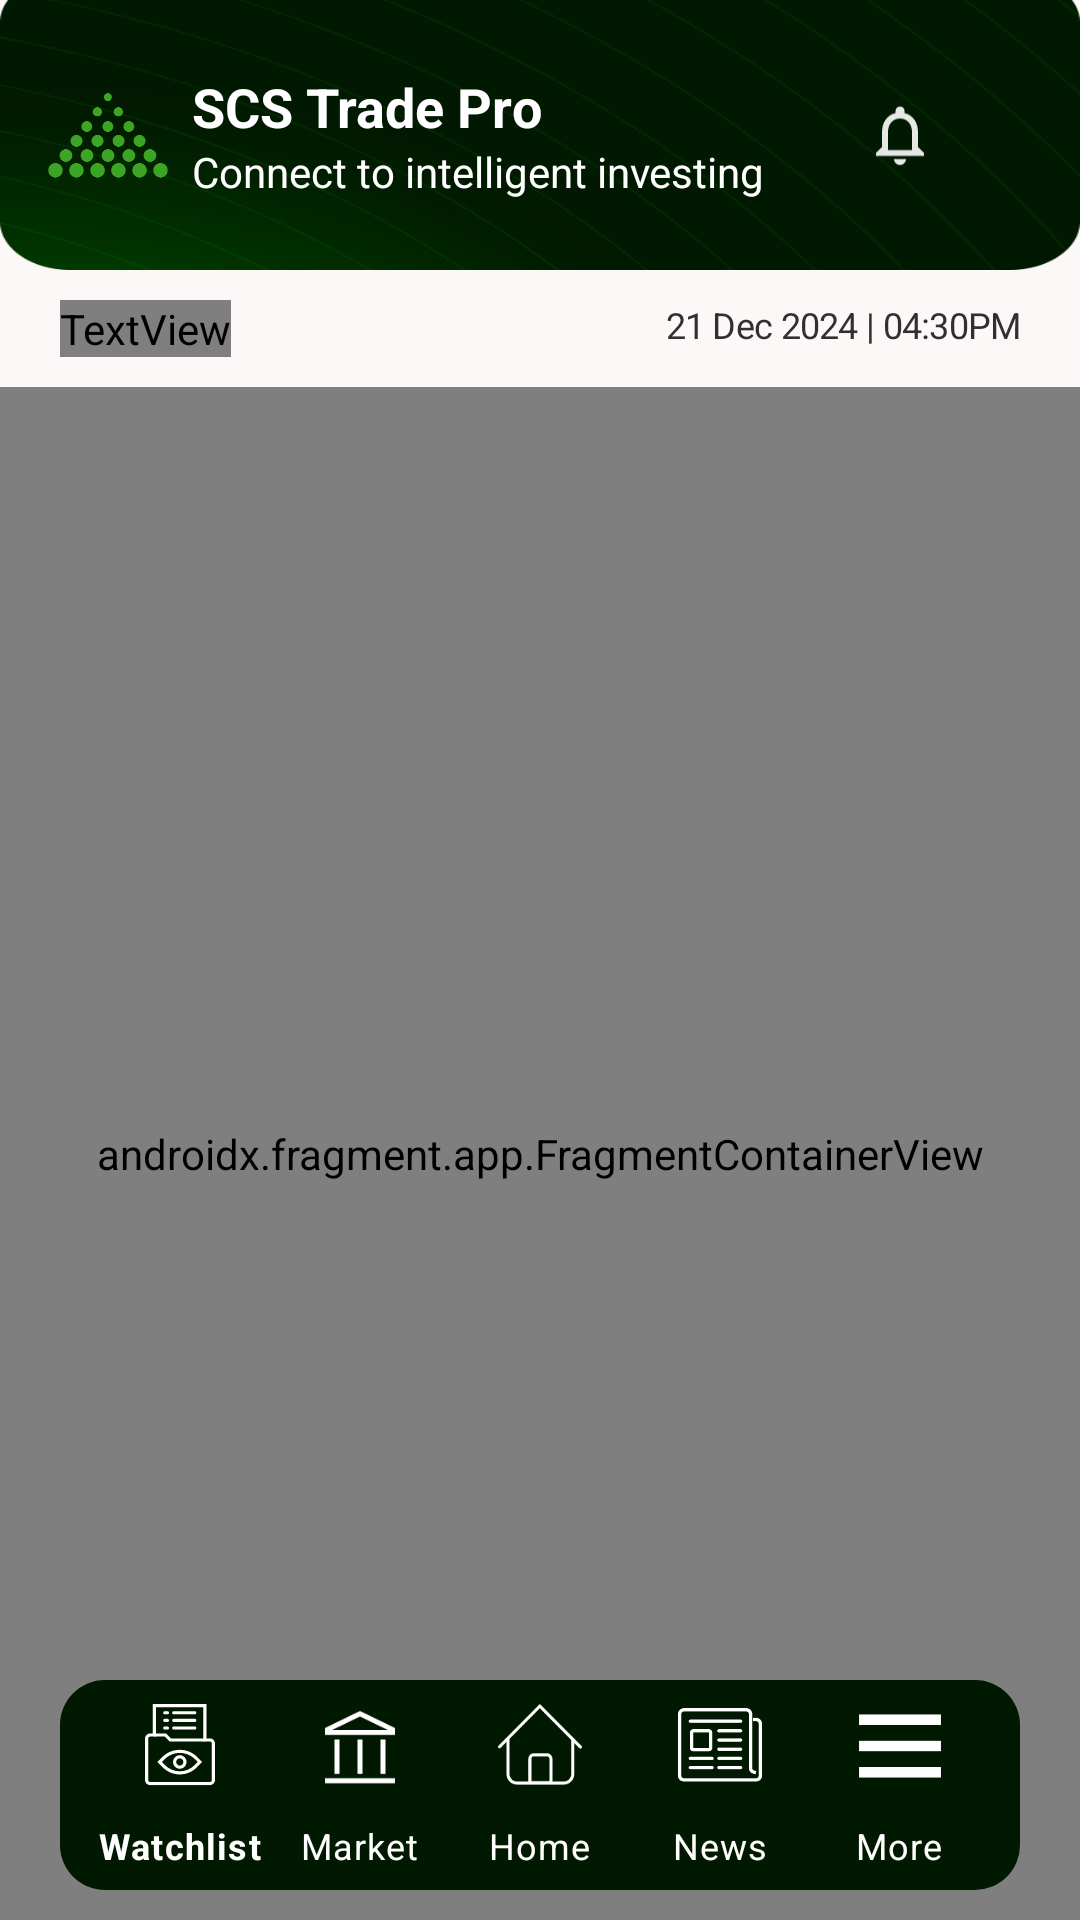

Point at icon controls on the screen. Image size 1080w x 1920h, points as point (x, y).
Notifications: point (900, 136)
